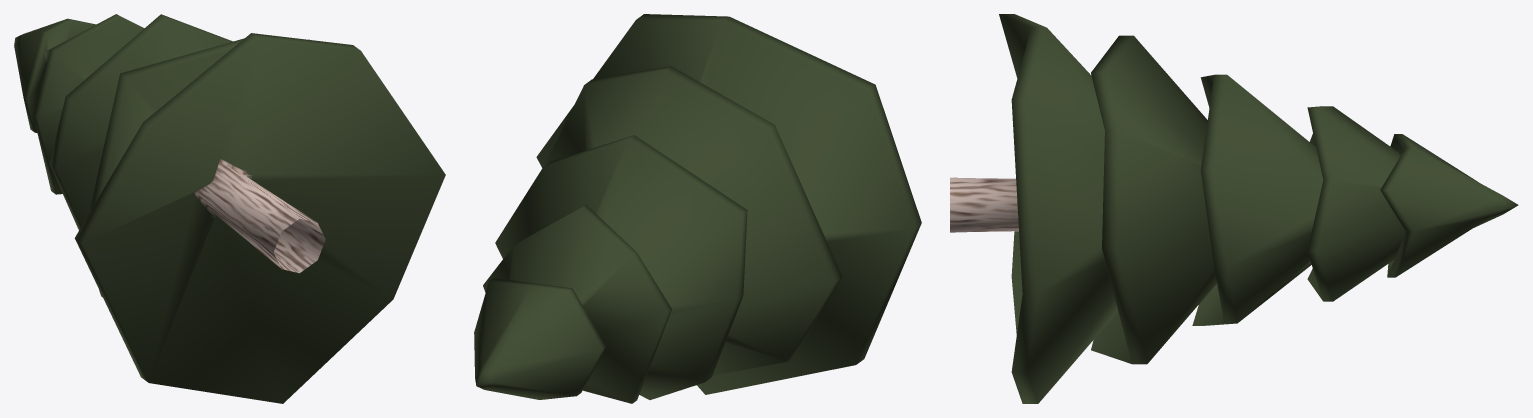
The model's file is firtree_01.dae.
3 renders of one model, left to right at view 1: azimuth 30°, elevation 25°; view 2: azimuth 150°, elevation 25°; view 3: azimuth 270°, elevation 25°, orthographic. The views are drawn at different scales.
Visible parts, largest first — view 1: firtree; view 2: firtree; view 3: firtree.
Part boxes in pixels (<box>): firtree: <box>14,14,445,403</box>; firtree: <box>474,14,921,403</box>; firtree: <box>950,14,1518,403</box>.
Size of the model in its own units: 0.9407 by 1.28 by 0.9073.
Materials: 1 (1 with a texture image).
